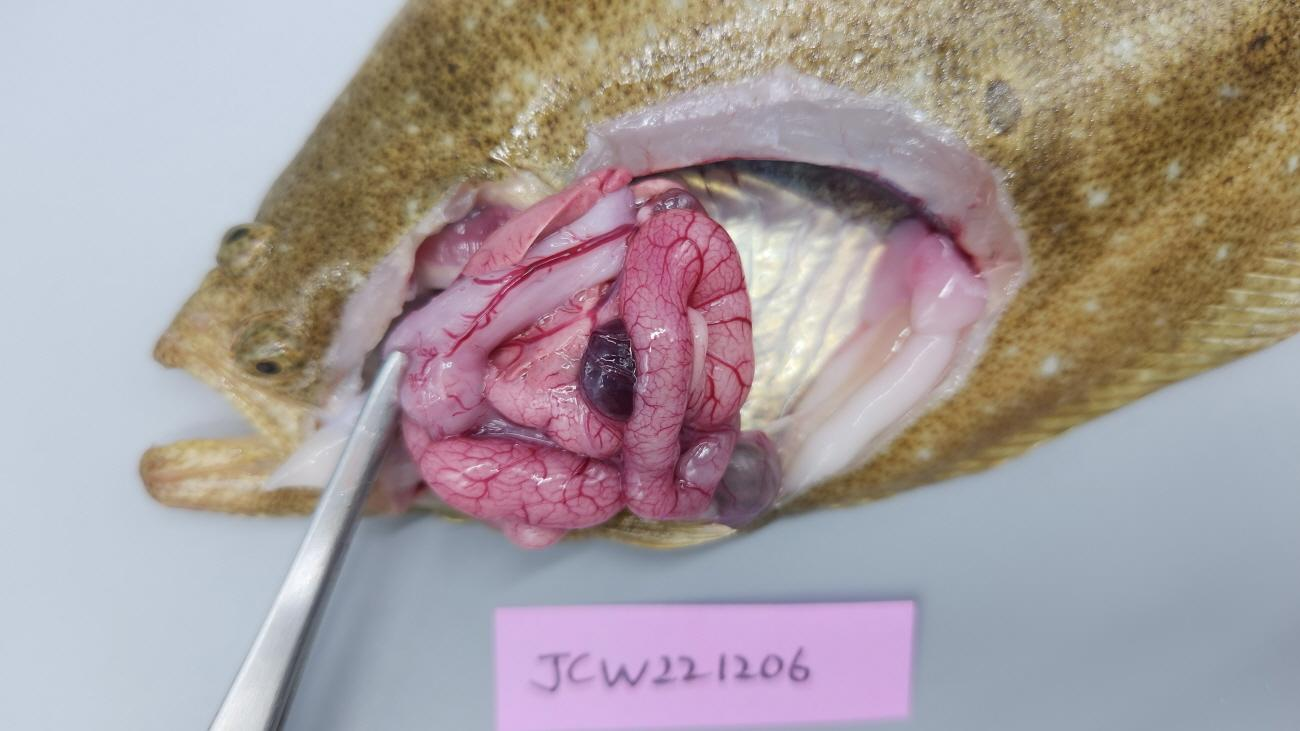POINN: (399, 209, 756, 548)
POSPN: (575, 319, 637, 423)
